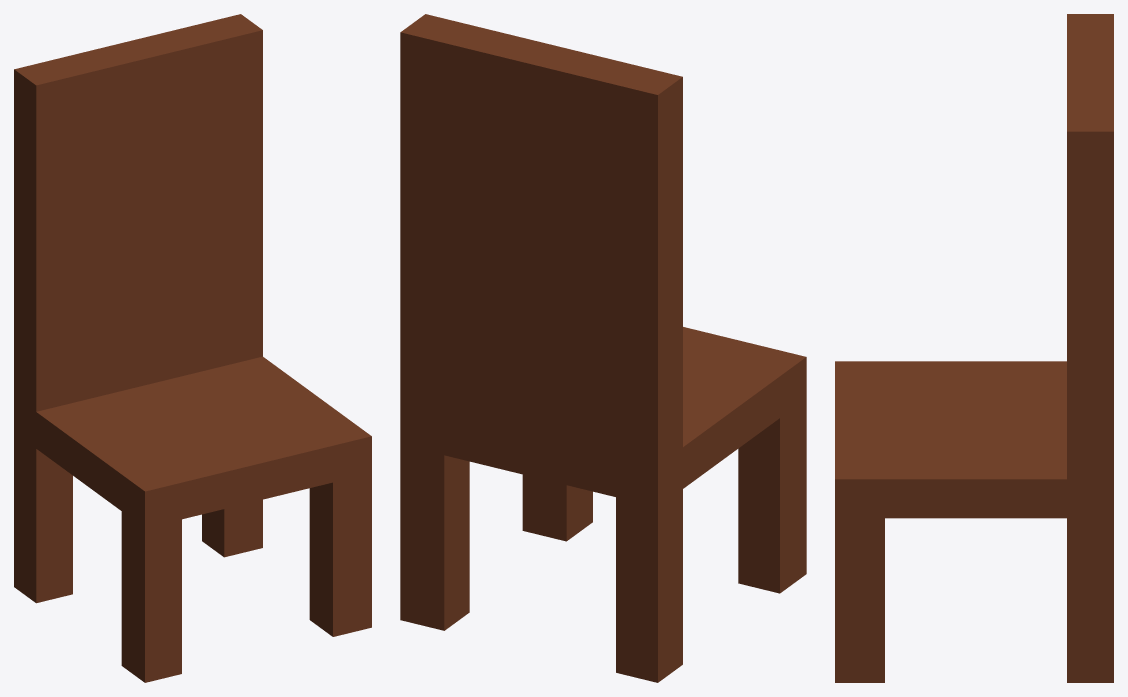
Rendered from PROP_Chair.fbx.
3 views of the same model, side by side, from view 1: azimuth 30°, elevation 25°; view 2: azimuth 150°, elevation 25°; view 3: azimuth 270°, elevation 25° (orthographic). The views are drawn at different scales.
Visible parts, largest first — view 1: GEO_Chair; view 2: GEO_Chair; view 3: GEO_Chair.
Part boxes in pixels (bbox=[...]): GEO_Chair: bbox=[14, 14, 371, 682]; GEO_Chair: bbox=[400, 14, 806, 682]; GEO_Chair: bbox=[835, 14, 1113, 682].
Size of the model in its own units: 50.23 by 110 by 50.23.
